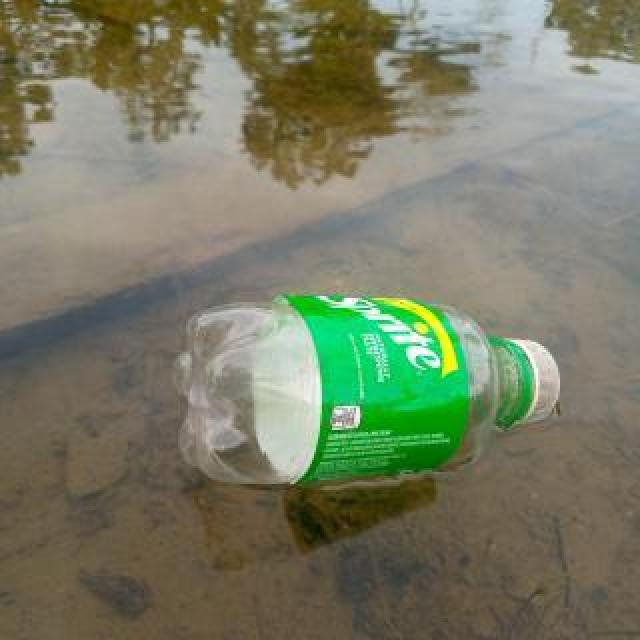bottle: (163, 292, 565, 492)
